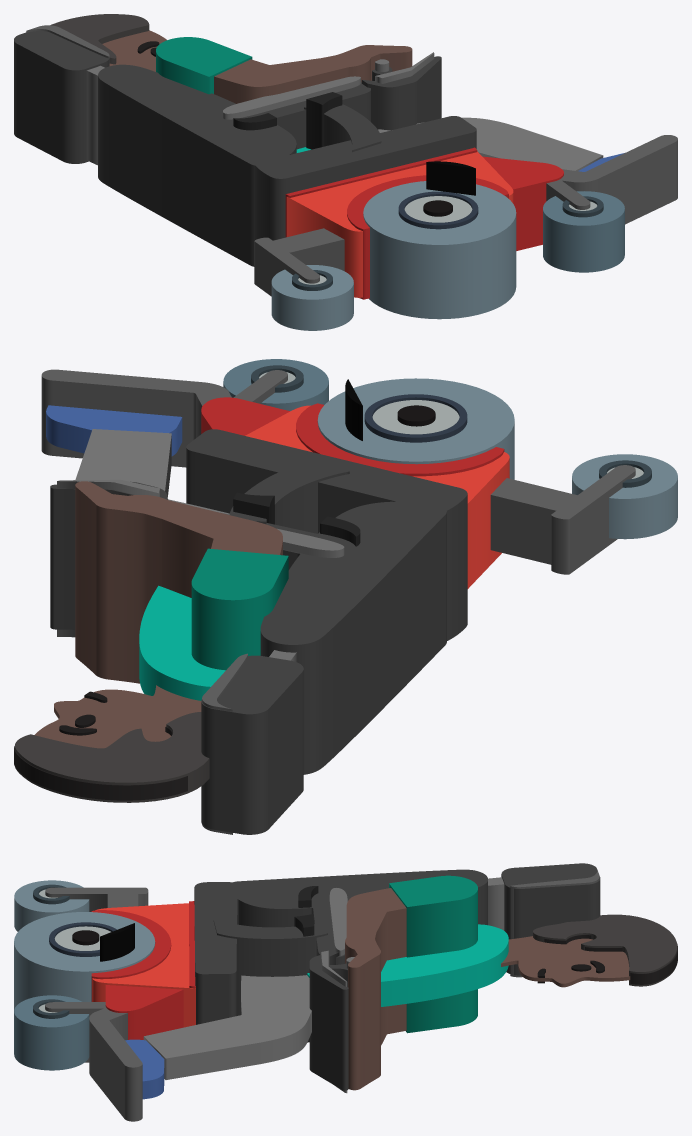
The model's file is emoji_u1f468_1f3ff_200d_1f9bc_200d_27a1.glb.
3 renders of one model, top to bottom at view 1: azimuth 30°, elevation 25°; view 2: azimuth 150°, elevation 25°; view 3: azimuth 270°, elevation 25°, orthographic. The views are drawn at different scales.
Parts seen in each view (by area): view 1: emoji_u1f468_1f3ff_200d_1f9bc_200d_27a1; view 2: emoji_u1f468_1f3ff_200d_1f9bc_200d_27a1; view 3: emoji_u1f468_1f3ff_200d_1f9bc_200d_27a1.
Boxes of the visible parts, x1=… form: emoji_u1f468_1f3ff_200d_1f9bc_200d_27a1: x1=14, y1=14, x2=677, y2=330; emoji_u1f468_1f3ff_200d_1f9bc_200d_27a1: x1=14, y1=359, x2=677, y2=834; emoji_u1f468_1f3ff_200d_1f9bc_200d_27a1: x1=14, y1=863, x2=677, y2=1121.
Bounding box in the file's own units: 0.0238 × 0.007 × 0.0334.
